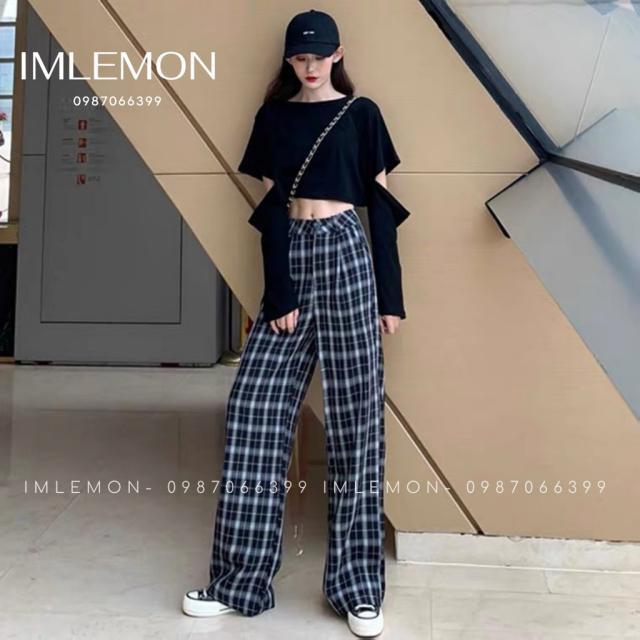shirt: (235, 94, 414, 324)
